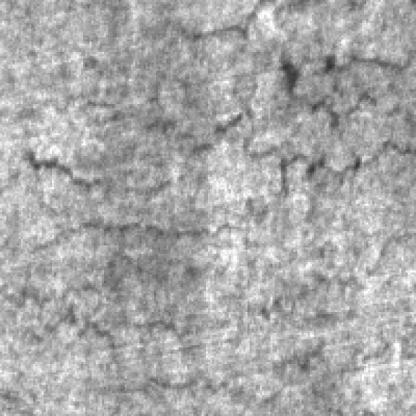crazing: (0, 41, 410, 250), (11, 304, 376, 395)
